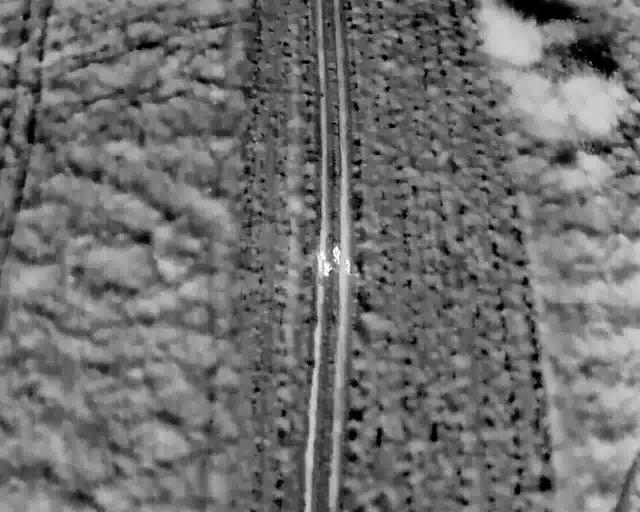person: (331, 244, 342, 265), (343, 256, 354, 276), (316, 251, 326, 272), (322, 262, 332, 277)
